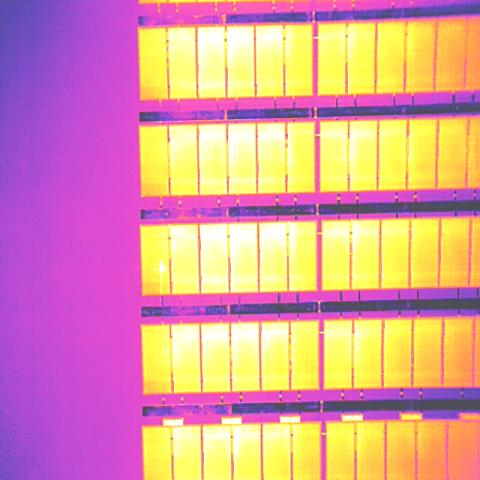fault: (158, 259, 168, 273)
